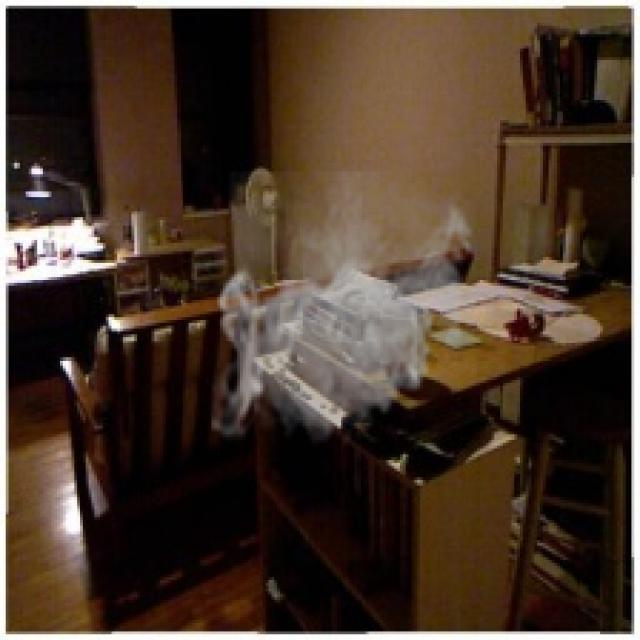Smoke: (211, 171, 480, 446)
